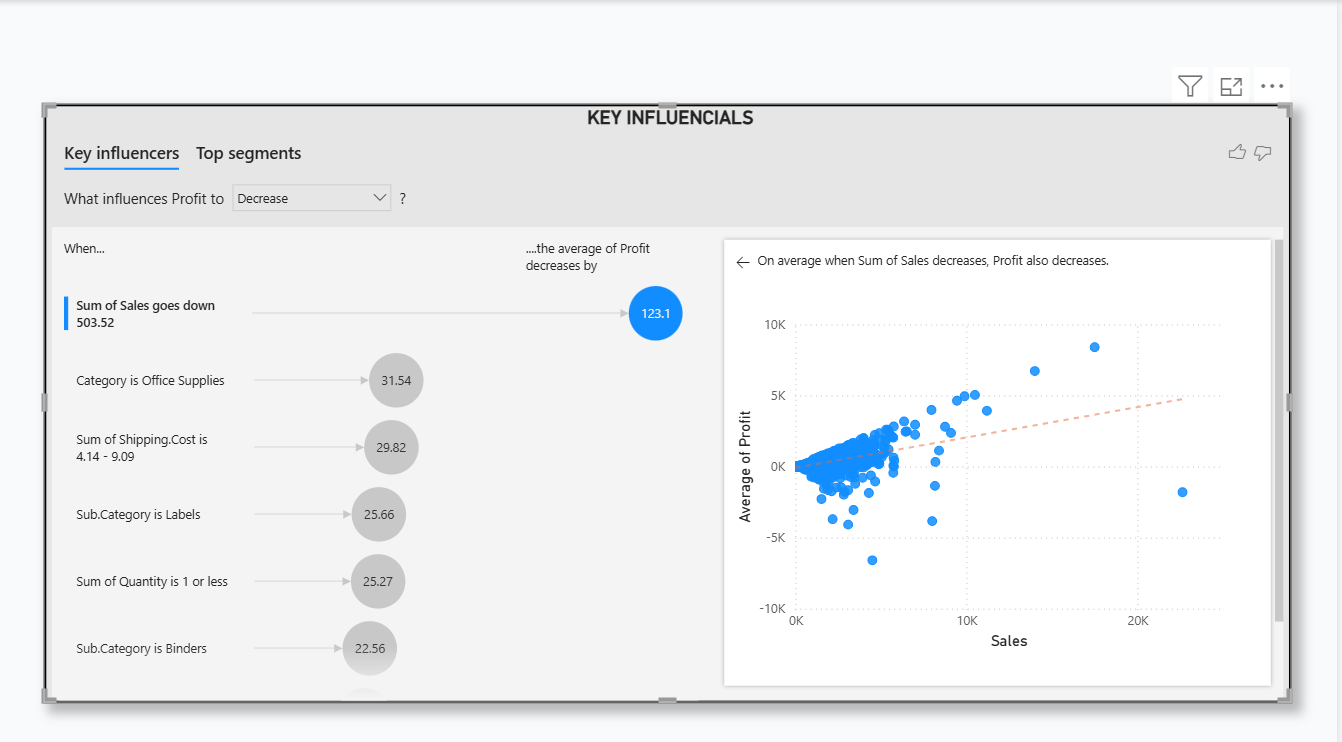

This screenshot's page, from the dashboard's own definition file:
{"tool":"powerbi","page":{"name":"ADVANCE ANALYTICS","canvas":[1280,720],"ordinal":5},"visuals":[{"type":"keyDriversVisual","title":"KEY INFLUENCIALS","fields":{"Target":["superstore.Profit"],"ExplainBy":["superstore.Region","superstore.Customer.Name","superstore.Order.ID","superstore.Ship.Mode","Sum(superstore.Sales)","Sum(superstore.Shipping.Cost)","Sum(superstore.Quantity)","superstore.Segment","superstore.Category","superstore.Sub.Category"]},"box":[43.9,98.4,1191.7,572.4],"z":0}]}

Visuals, with their boxes in screenshot pixels (x1, y1, x2, y2):
"KEY INFLUENCIALS" keyDriversVisual: {"x1": 39, "y1": 97, "x2": 1293, "y2": 699}
